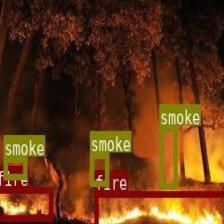fire: (94, 189, 224, 224), (0, 187, 52, 219)
smoke: (158, 124, 176, 188), (89, 152, 108, 186), (3, 156, 27, 178)
